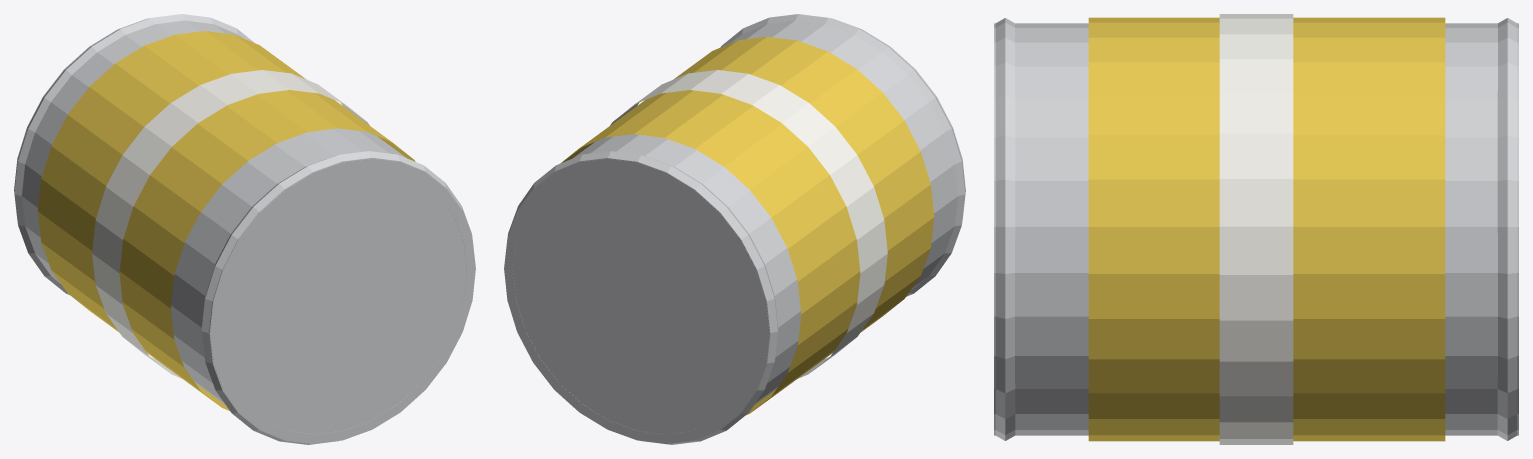
File: can_2.obj
The picture shows the model from 3 angles, left to right: view 1: azimuth 30°, elevation 25°; view 2: azimuth 150°, elevation 25°; view 3: azimuth 270°, elevation 25°; orthographic projection. The views are drawn at different scales.
Size of the model in its own units: 0.115 by 0.115 by 0.1401.
